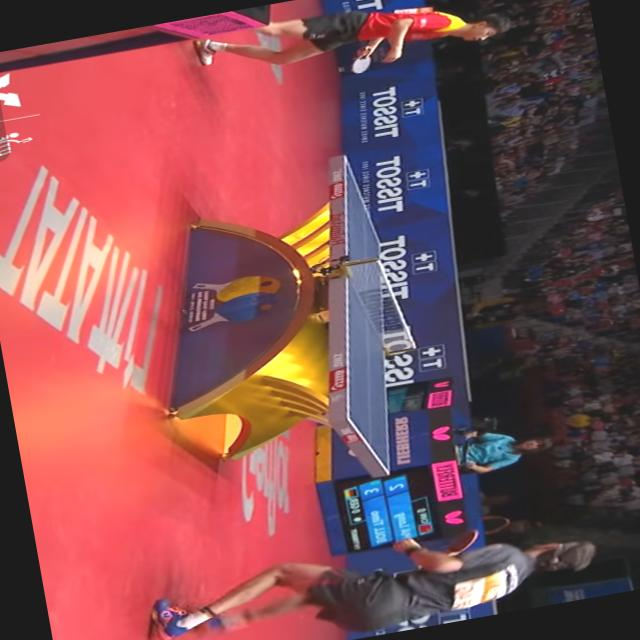TT Net: (338, 246, 425, 363)
TT Racket: (431, 516, 489, 572), (344, 55, 374, 75)
TT Table: (344, 157, 386, 474)
